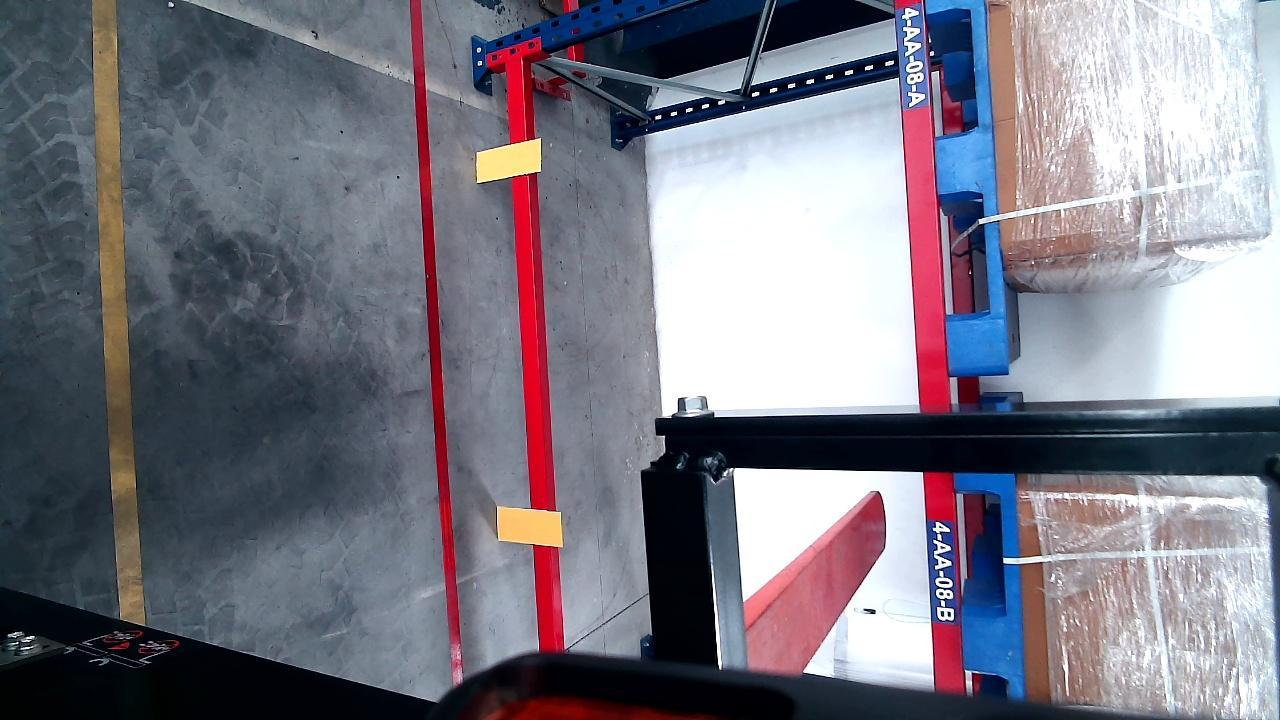red_line: (406, 2, 461, 685)
yellow_line: (90, 0, 146, 628)
